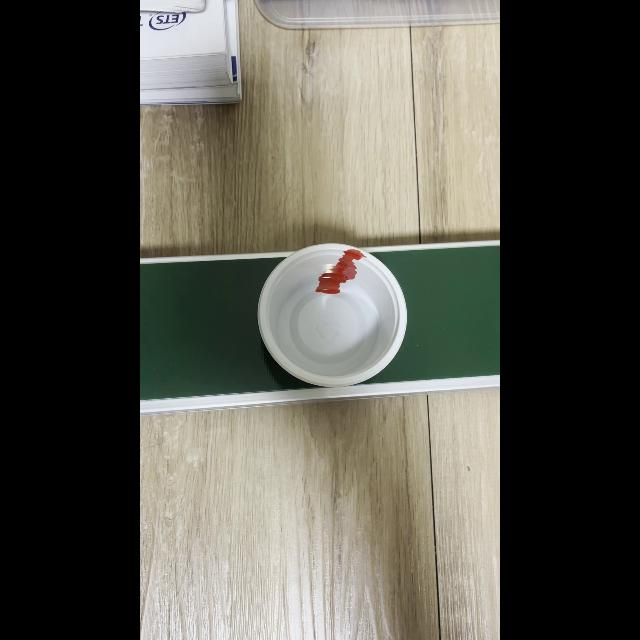dirty: (258, 245, 404, 385)
